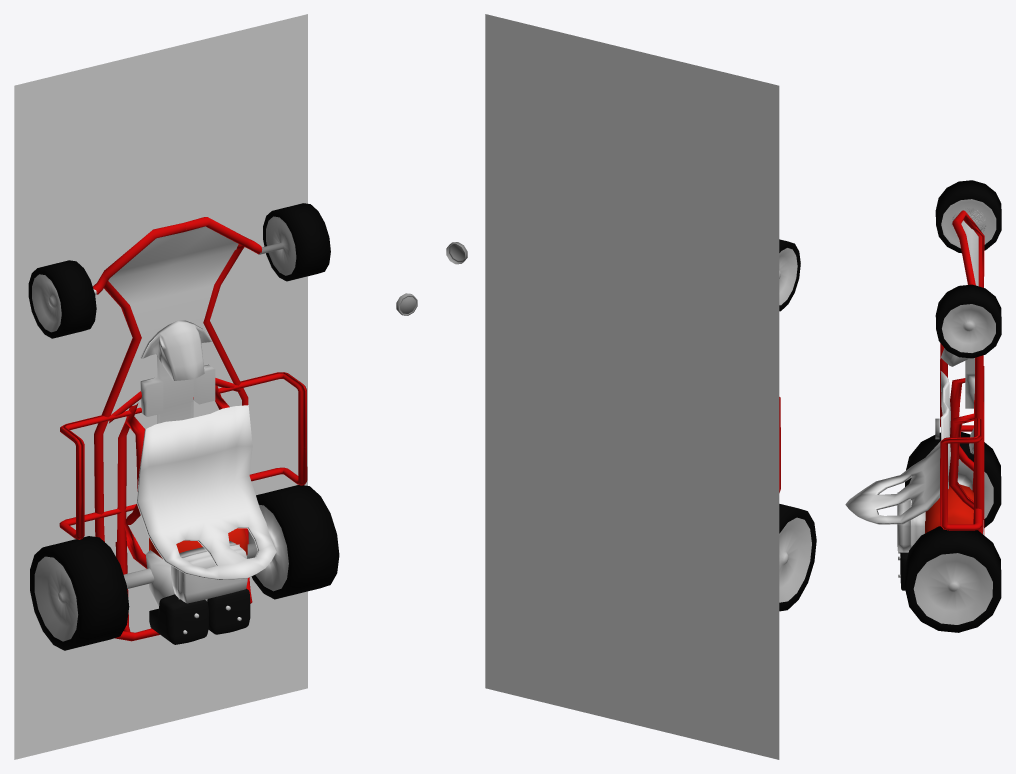
The model's file is kart.fbx.
3 views of the same model, side by side, from view 1: azimuth 30°, elevation 25°; view 2: azimuth 150°, elevation 25°; view 3: azimuth 270°, elevation 25° (orthographic). The views are drawn at different scales.
Parts seen in each view (by area): view 1: Plane_001, Plane, Cylinder, Plane_002, Circle_002, Cube_003, Cube, Cylinder_002, Cylinder_003; view 2: Plane_001, Cylinder, Cylinder_002; view 3: Cylinder, Circle_002, Plane, Cylinder_003, Cylinder_002, Cube_003, Cube, Plane_002.
Boxes of the visible parts, bbox=[...] form: Plane_001: bbox=[14, 14, 307, 759]; Plane: bbox=[136, 405, 276, 579]; Cylinder: bbox=[30, 485, 339, 650]; Plane_002: bbox=[103, 226, 241, 543]; Circle_002: bbox=[59, 217, 307, 641]; Cube_003: bbox=[145, 528, 250, 644]; Cube: bbox=[140, 320, 215, 423]; Cylinder_002: bbox=[28, 260, 97, 338]; Cylinder_003: bbox=[258, 203, 330, 281]; Plane_001: bbox=[485, 14, 779, 759]; Cylinder: bbox=[779, 504, 816, 611]; Cylinder_002: bbox=[779, 239, 800, 311]; Cylinder: bbox=[905, 432, 1001, 632]; Circle_002: bbox=[940, 210, 984, 534]; Plane: bbox=[845, 371, 950, 524]; Cylinder_003: bbox=[935, 284, 1001, 358]; Cylinder_002: bbox=[935, 180, 1001, 253]; Cube_003: bbox=[897, 484, 983, 590]; Cube: bbox=[941, 348, 974, 454]; Plane_002: bbox=[961, 220, 978, 286].
Bounding box in the file's own units: 12.47 × 21.9 × 5.05.
